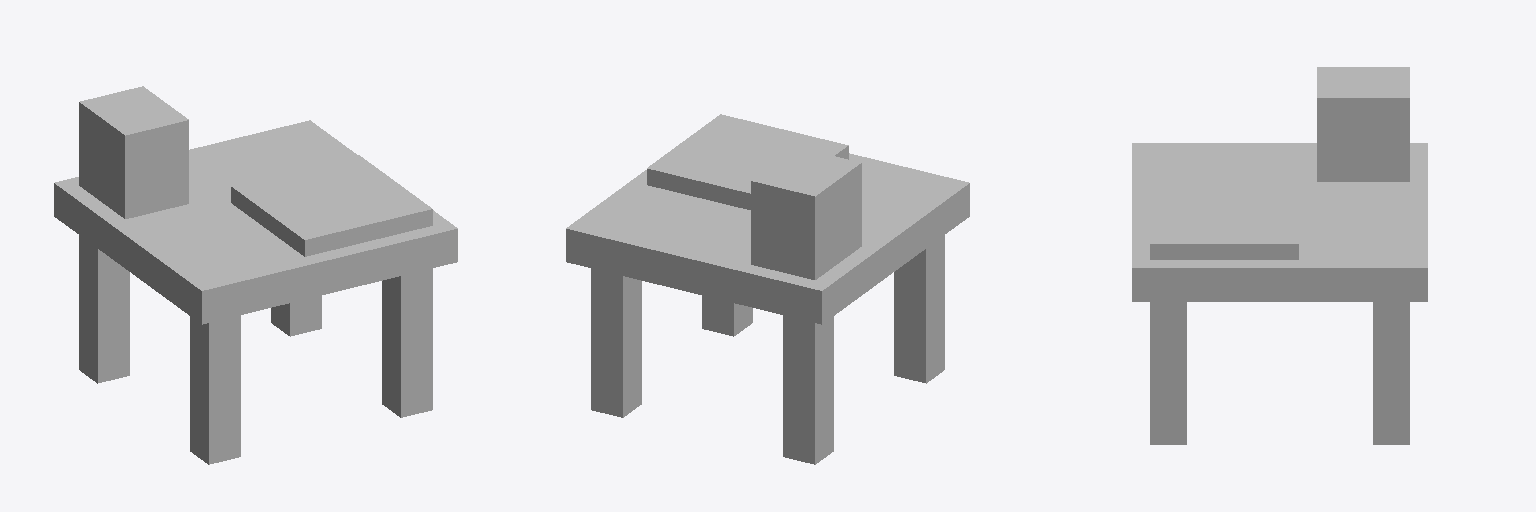
Rendered from technical_drawings_drawing_table.obj.
3 views of the same model, side by side, from view 1: azimuth 30°, elevation 25°; view 2: azimuth 150°, elevation 25°; view 3: azimuth 270°, elevation 25° (orthographic).
Parts seen in each view (by area): view 1: node_0_0_0; view 2: node_0_0_0; view 3: node_0_0_0.
Part boxes in pixels (left/top/right/bottom): node_0_0_0: left=54, top=86, right=457, bottom=464; node_0_0_0: left=566, top=114, right=969, bottom=464; node_0_0_0: left=1132, top=67, right=1427, bottom=444.
Bounding box in the file's own units: 1 × 1 × 1.